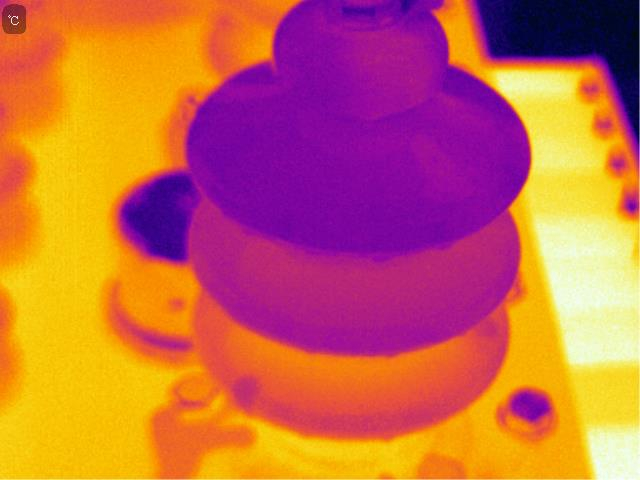Oil: (412, 106, 526, 213), (337, 27, 446, 122), (207, 24, 298, 106), (226, 366, 262, 429), (426, 233, 461, 256), (370, 241, 398, 269), (293, 424, 314, 447), (380, 429, 402, 445)
